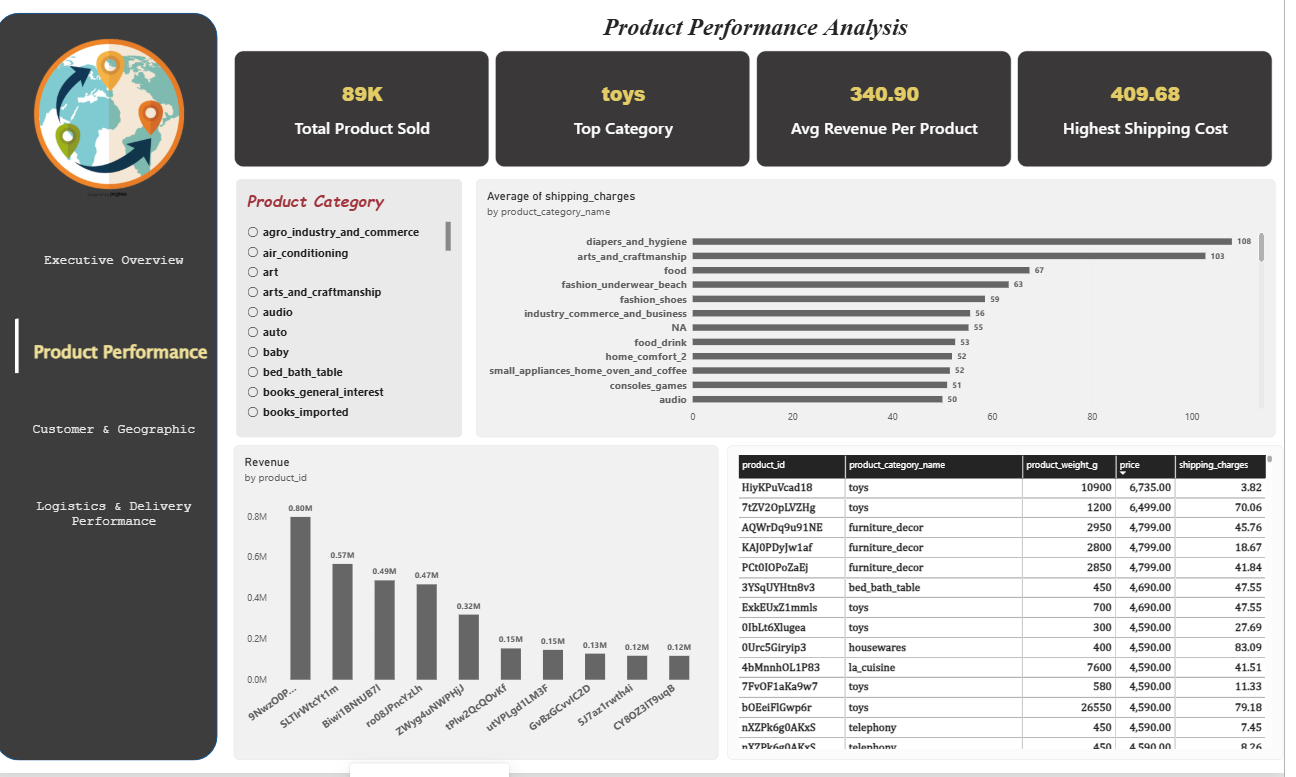

What the dashboard file says about the page in this screenshot:
{"tool":"powerbi","page":{"name":"Product Performance","canvas":[2000,1200],"ordinal":1},"visuals":[{"type":"shape","box":[0,20.6,345.2,1160.4],"z":0},{"type":"image","box":[22.5,43.2,300.7,271.7],"z":1000},{"type":"cardVisual","fields":{"Data":["df_OrderItems.Total Product Sold","df_OrderItems.Top Category","df_OrderItems.Avg Revenue Per Product","df_OrderItems.Highest Shipping Cost"]},"box":[370.9,79.3,1614.5,182.2],"z":3000},{"type":"textbox","box":[375.2,20.6,1611.6,45],"z":4000},{"type":"clusteredColumnChart","title":"Revenue By Products","fields":{"Category":["df_OrderItems.product_id"],"Y":["df_Customers.Revenue"]},"box":[370.4,692.8,751.6,488],"z":5000},{"type":"tableEx","fields":{"Values":["df_Products.product_id","df_Products.product_category_name","df_Products.product_weight_g","df_OrderItems.price","df_OrderItems.shipping_charges"]},"box":[1137.3,692.8,862.7,488],"z":6000},{"type":"barChart","title":"Average Shipping Charges","fields":{"Category":["df_Products.product_category_name"],"Y":["Avg(df_OrderItems.shipping_charges)"]},"box":[747.3,278.9,1239.7,400.9],"z":7000},{"type":"listSlicer","title":"Product Category","fields":{"Values":["df_Products.product_category_name"]},"box":[374.7,278.9,350.8,400.9],"z":9001},{"type":"pageNavigator","box":[11.6,345.2,345.2,519.8],"z":9002}]}

Visuals, with their boxes on the page's 2000x1200 design canvas (x1, y1, x2, y2). These are canvas units, not pixel positions in the 1296x777 screenshot, which may show the page scaled, cropped or inside an application window:
shape: crop(0, 21, 345, 1181)
image: crop(22, 43, 323, 315)
cardVisual - df_OrderItems.Total Product Sold x df_OrderItems.Top Category: crop(371, 79, 1985, 262)
textbox: crop(375, 21, 1987, 66)
"Revenue By Products" clusteredColumnChart: crop(370, 693, 1122, 1181)
tableEx - df_Products.product_id x df_Products.product_category_name: crop(1137, 693, 2000, 1181)
"Average Shipping Charges" barChart: crop(747, 279, 1987, 680)
"Product Category" listSlicer: crop(375, 279, 726, 680)
pageNavigator: crop(12, 345, 357, 865)
